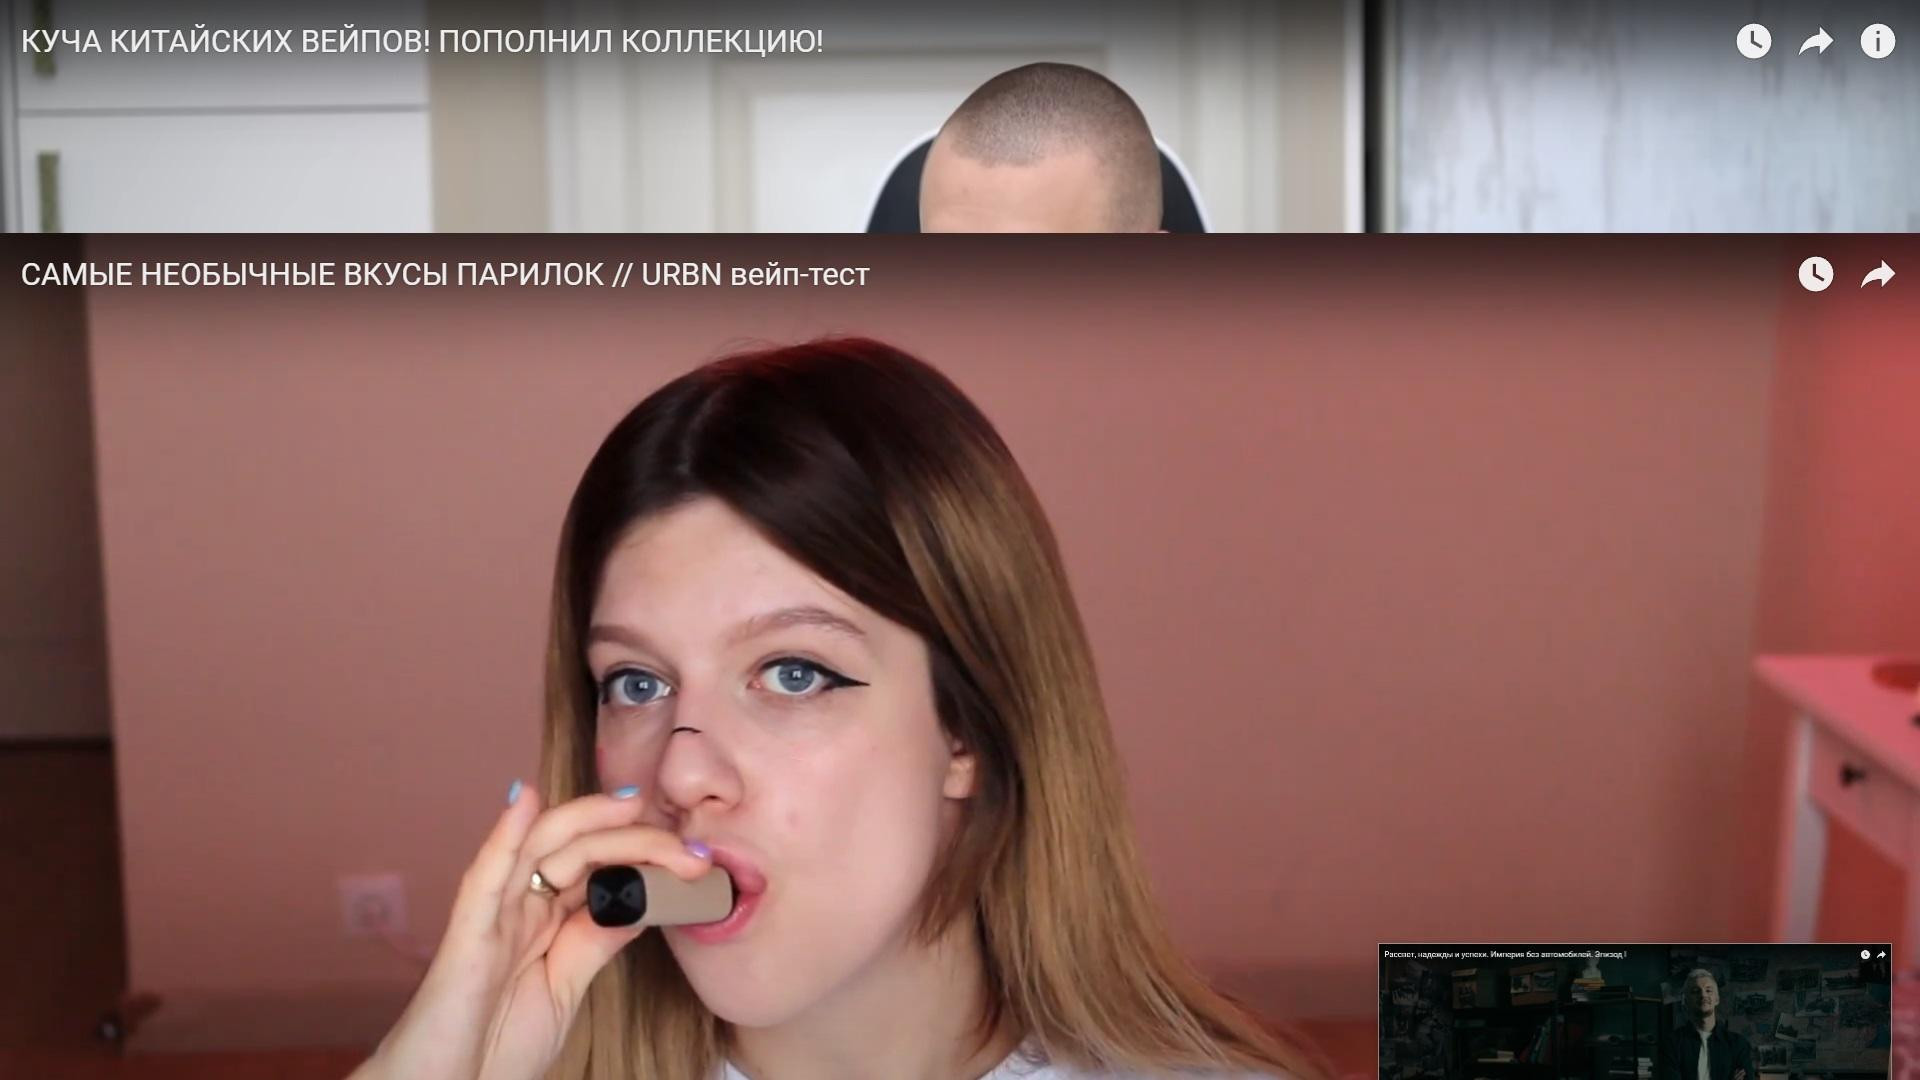Vape: (588, 865, 735, 931)
